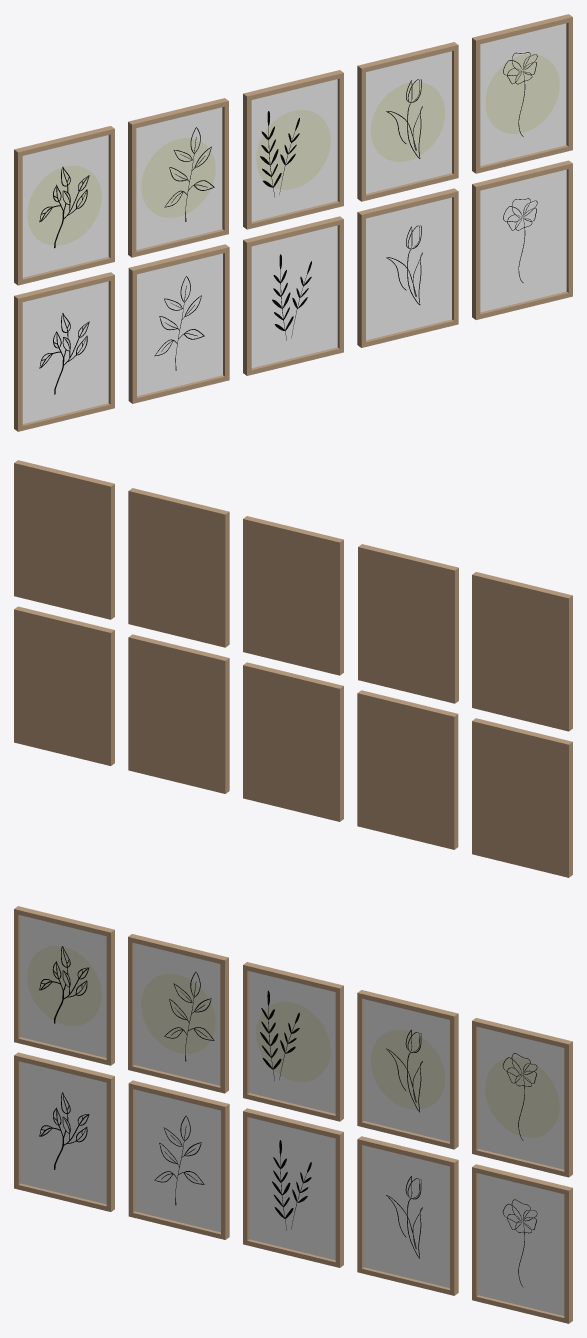
Rendered from uploads_files_3380865_Wall_Art.fbx.
3 renders of one model, top to bottom at view 1: azimuth 30°, elevation 25°; view 2: azimuth 150°, elevation 25°; view 3: azimuth 330°, elevation 25°, orthographic.
Parts seen in each view (by area): view 1: Art4, Art9, Art7, Art2, Art3, Art6, Art10, Art8, Art1, Art5; view 2: Art4, Art9, Art7, Art2, Art3, Art6, Art10, Art8, Art1, Art5; view 3: Art4, Art7, Art9, Art8, Art1, Art10, Art3, Art2, Art6, Art5.
Boxes of the visible parts, x1=… form: Art4: x1=357, y1=42, x2=458, y2=201; Art9: x1=357, y1=188, x2=458, y2=347; Art7: x1=128, y1=244, x2=229, y2=403; Art2: x1=128, y1=98, x2=228, y2=257; Art3: x1=243, y1=70, x2=343, y2=229; Art6: x1=14, y1=272, x2=114, y2=431; Art10: x1=472, y1=160, x2=572, y2=319; Art8: x1=243, y1=216, x2=343, y2=375; Art1: x1=14, y1=126, x2=114, y2=285; Art5: x1=472, y1=14, x2=572, y2=173; Art4: x1=128, y1=488, x2=229, y2=647; Art9: x1=128, y1=634, x2=229, y2=793; Art7: x1=357, y1=690, x2=458, y2=849; Art2: x1=358, y1=544, x2=458, y2=703; Art3: x1=243, y1=516, x2=343, y2=675; Art6: x1=472, y1=718, x2=572, y2=877; Art10: x1=14, y1=606, x2=114, y2=765; Art8: x1=243, y1=662, x2=343, y2=821; Art1: x1=472, y1=572, x2=572, y2=731; Art5: x1=14, y1=460, x2=114, y2=619; Art4: x1=357, y1=990, x2=458, y2=1149; Art7: x1=128, y1=1080, x2=229, y2=1239; Art9: x1=357, y1=1136, x2=458, y2=1295; Art8: x1=243, y1=1108, x2=343, y2=1267; Art1: x1=14, y1=906, x2=114, y2=1065; Art10: x1=472, y1=1164, x2=572, y2=1323; Art3: x1=243, y1=962, x2=343, y2=1121; Art2: x1=128, y1=934, x2=228, y2=1093; Art6: x1=14, y1=1052, x2=114, y2=1211; Art5: x1=472, y1=1018, x2=572, y2=1177.
Bounding box in the file's own units: 436 × 210 × 5.56.
